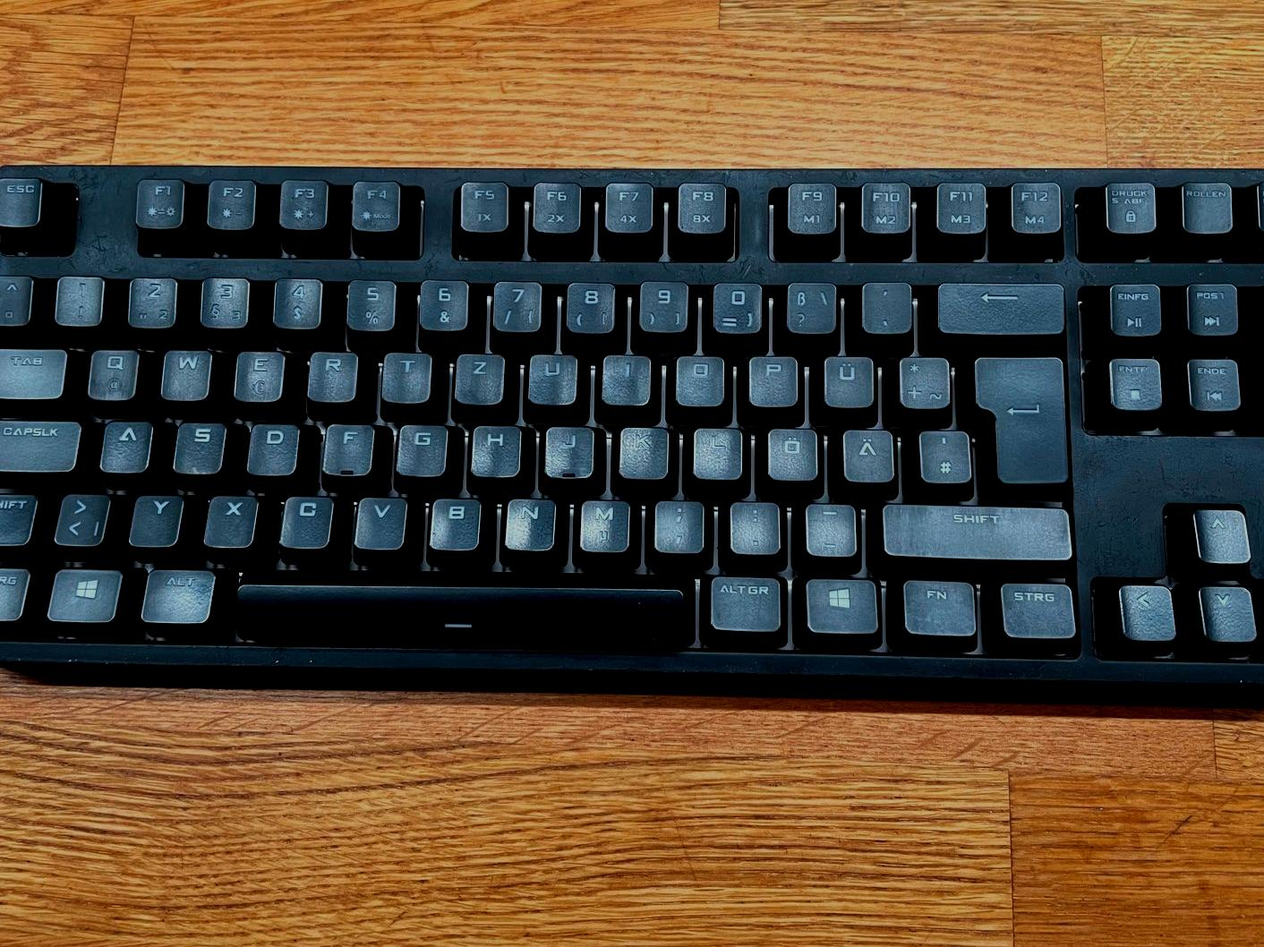0: (709, 278, 764, 334)
1: (53, 272, 104, 325)
2: (125, 277, 179, 331)
3: (197, 274, 251, 328)
4: (270, 274, 322, 328)
5: (343, 276, 398, 331)
6: (415, 275, 471, 330)
7: (491, 277, 543, 332)
8: (563, 278, 617, 333)
9: (636, 277, 690, 332)
a: (98, 417, 152, 472)
accent: (858, 278, 912, 333)
ae: (841, 425, 895, 482)
alt-left: (138, 564, 216, 623)
altgr-right: (705, 572, 784, 632)
b: (427, 494, 483, 550)
c: (278, 492, 333, 547)
caret: (1, 271, 32, 325)
comma: (651, 496, 705, 553)
d: (245, 419, 299, 474)
del: (934, 279, 1064, 333)
e: (231, 348, 285, 400)
enter: (971, 352, 1067, 485)
f: (320, 420, 374, 475)
g: (394, 421, 448, 475)
h: (468, 422, 522, 477)
hash: (916, 426, 971, 483)
i: (599, 352, 652, 405)
j: (542, 422, 595, 478)
k: (616, 424, 670, 479)
keyboard: (1, 154, 1264, 697)
l: (690, 425, 744, 479)
less: (51, 488, 108, 544)
m: (576, 496, 630, 552)
minus: (802, 499, 857, 556)
n: (501, 495, 557, 550)
o: (673, 353, 726, 405)
oe: (764, 424, 818, 480)
p: (746, 353, 799, 405)
plus: (896, 354, 951, 408)
point: (728, 498, 781, 553)
q: (85, 346, 140, 399)
r: (304, 348, 358, 401)
s: (171, 418, 226, 473)
shift-left: (1, 489, 38, 544)
shift-lock: (1, 416, 81, 471)
shift-right: (879, 501, 1072, 559)
space: (231, 578, 693, 646)
ss: (783, 279, 836, 333)
strg-left: (1, 563, 39, 619)
strg-right: (996, 578, 1078, 639)
t: (379, 349, 431, 402)
tab: (1, 345, 67, 397)
u: (525, 351, 578, 404)
ue: (822, 352, 875, 407)
v: (353, 493, 406, 549)
w: (159, 347, 212, 399)
x: (201, 491, 258, 547)
y: (127, 491, 183, 546)
z: (452, 350, 505, 403)
